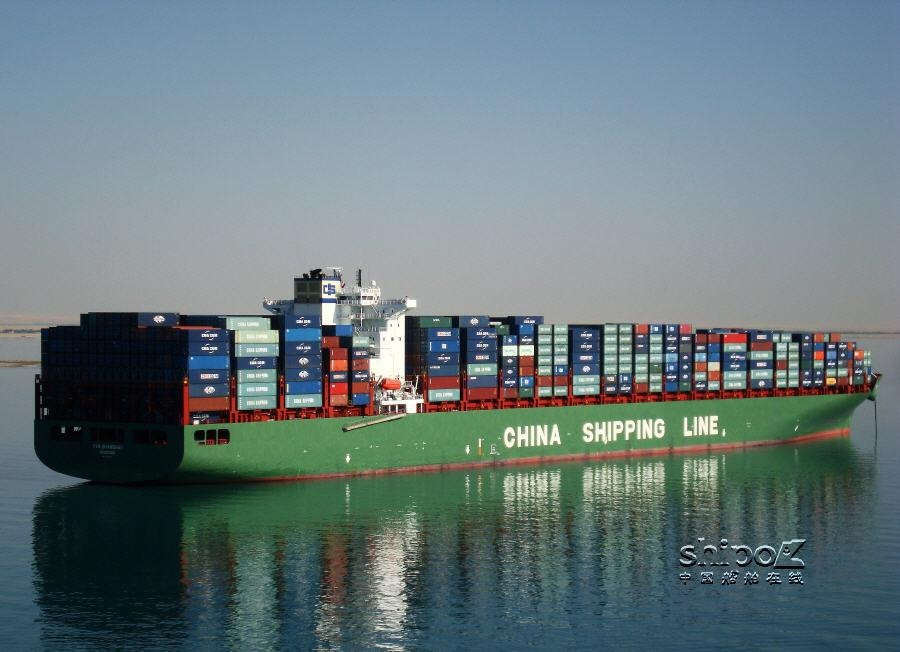Cargoship: (29, 269, 881, 489)
